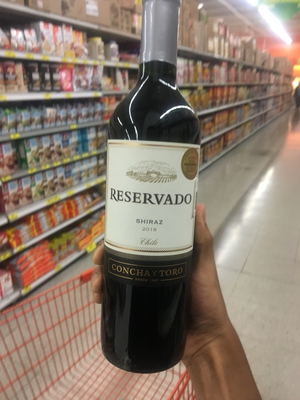reservado shiraz: (102, 16, 204, 369)
